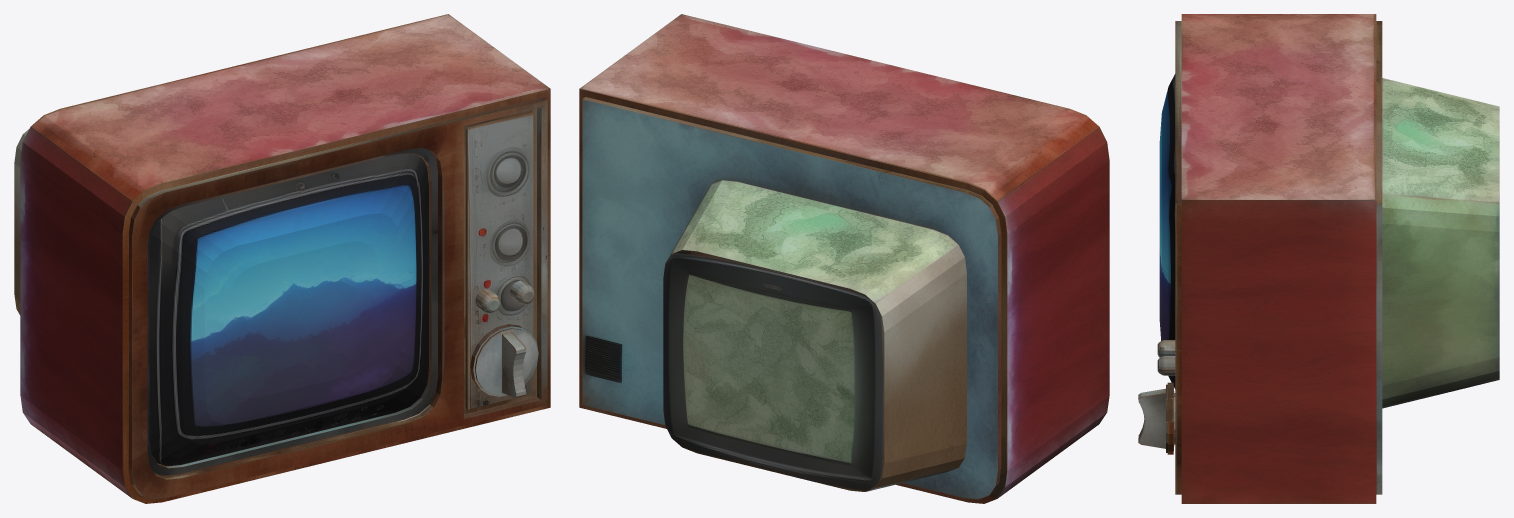
3 renders of one model, left to right at view 1: azimuth 30°, elevation 25°; view 2: azimuth 150°, elevation 25°; view 3: azimuth 270°, elevation 25°, orthographic. The views are drawn at different scales.
Parts seen in each view (by area): view 1: mesh.012; view 2: mesh.012; view 3: mesh.012.
Boxes of the visible parts, box(x1,y1,x2,y2) form: mesh.012: box(14, 14, 550, 503); mesh.012: box(579, 14, 1109, 503); mesh.012: box(1138, 14, 1499, 503).
Size of the model in its own units: 0.7041 by 0.5013 by 0.5397.
1 material, 1 textured.
